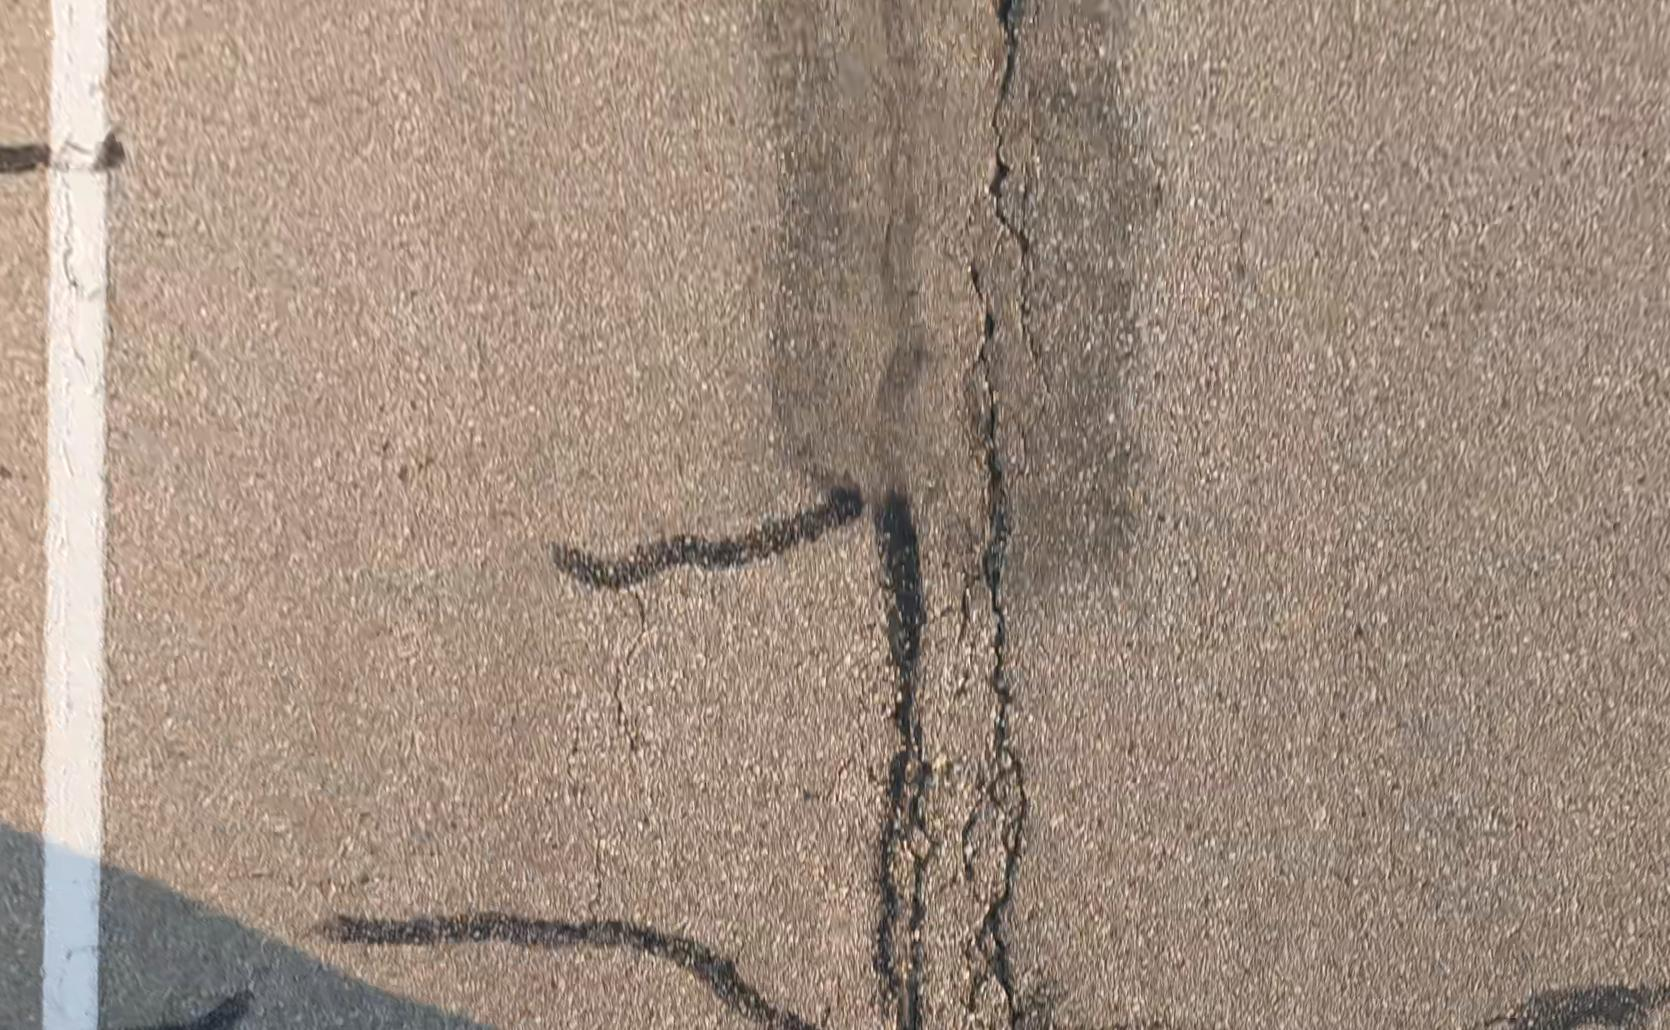pothole_patch_poor: (763, 1, 1161, 615)
